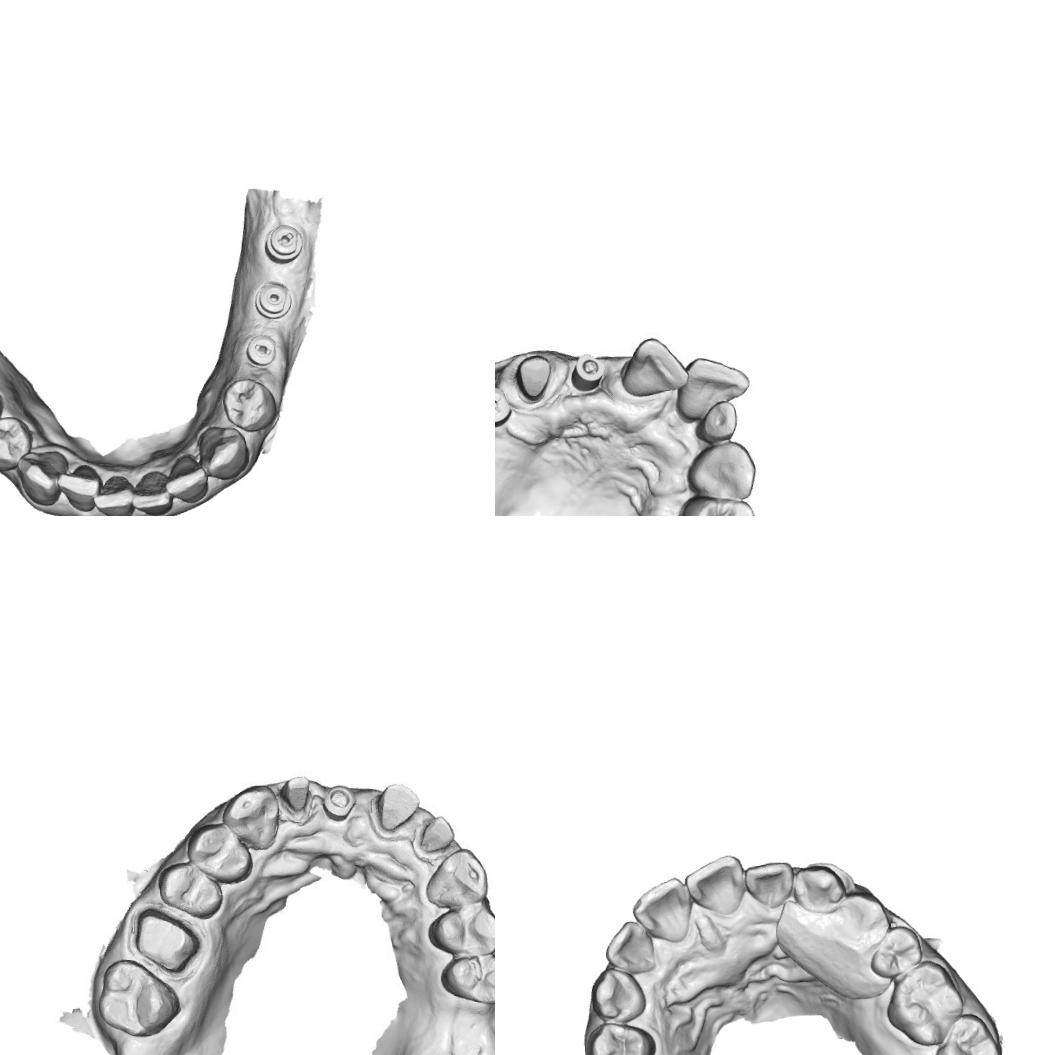canine: (682, 440, 761, 502), (419, 846, 492, 913), (588, 966, 648, 1024), (195, 423, 250, 481), (14, 449, 68, 508), (229, 786, 278, 848), (790, 860, 846, 914)
crown: (135, 908, 196, 970), (511, 348, 564, 406), (375, 784, 419, 832), (415, 813, 452, 859), (280, 774, 312, 813)
implant: (566, 350, 610, 392), (252, 280, 292, 319), (323, 782, 356, 828)
implant_minus: (263, 223, 305, 266), (242, 332, 278, 368)
implant_plus: (495, 383, 509, 429)
incisor: (676, 352, 752, 424), (618, 334, 691, 406), (628, 873, 692, 946), (682, 852, 748, 918), (602, 916, 658, 976), (742, 859, 796, 910), (162, 450, 210, 506), (56, 462, 104, 514), (696, 398, 749, 442), (129, 468, 174, 516), (91, 471, 137, 516)
molar: (90, 956, 186, 1044), (882, 957, 967, 1049), (926, 1011, 1002, 1055)
premolar: (427, 899, 495, 961), (829, 890, 890, 951), (158, 858, 222, 915), (219, 373, 278, 434), (436, 951, 495, 1009), (190, 826, 249, 882), (867, 923, 925, 979), (582, 1019, 657, 1055), (676, 490, 757, 516), (0, 413, 33, 471)
